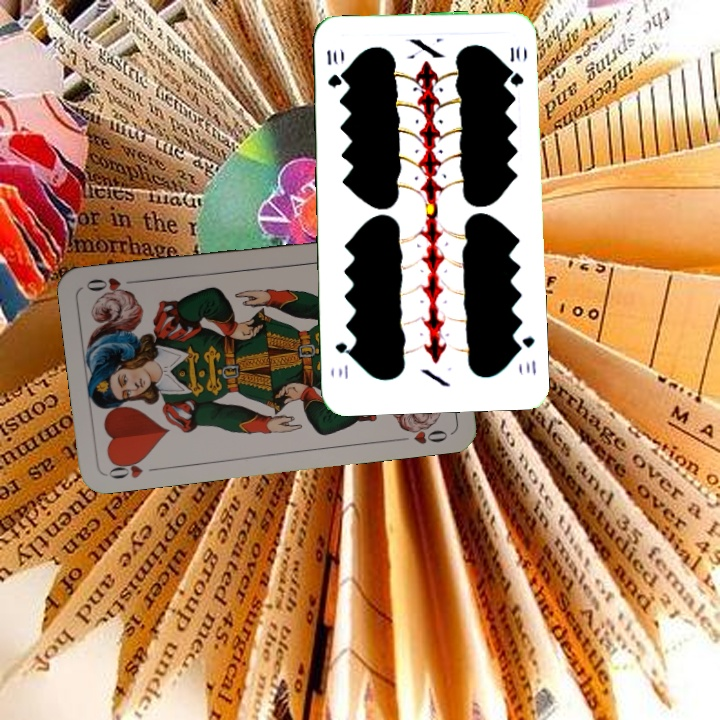G10: (512, 332, 538, 378), (323, 46, 344, 90)
HO: (104, 453, 163, 482)
